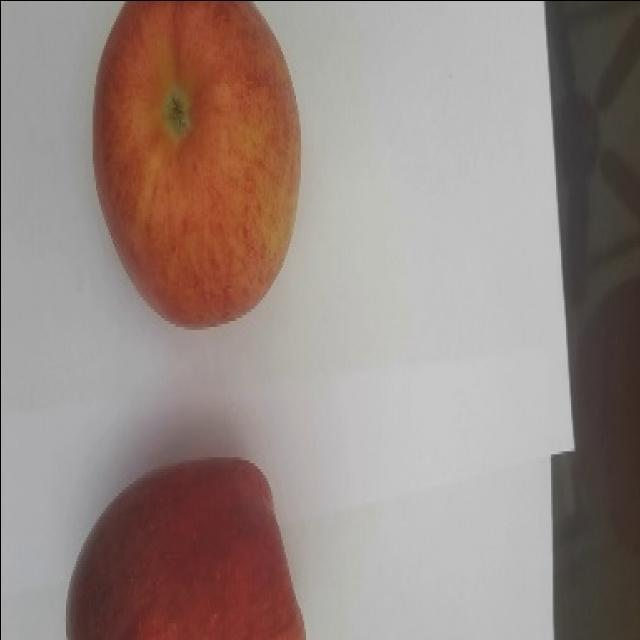Apple: (91, 0, 301, 329), (65, 456, 306, 639)
